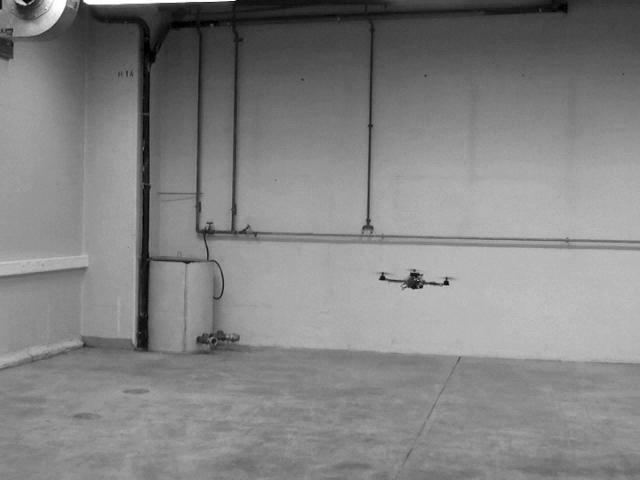drone: (369, 264, 462, 297)
